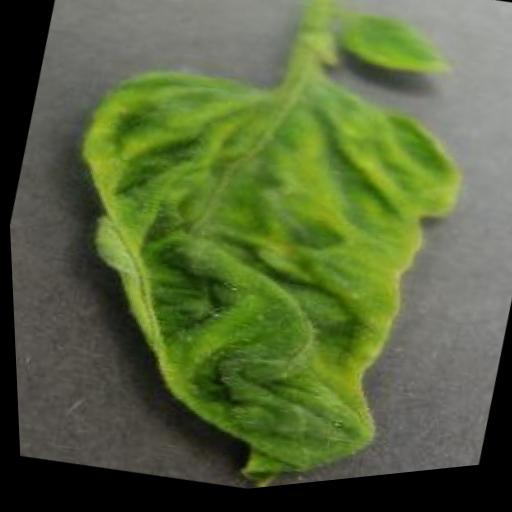Yellow Leaf Curl Virus: (2, 26, 486, 512), (334, 8, 469, 105)
